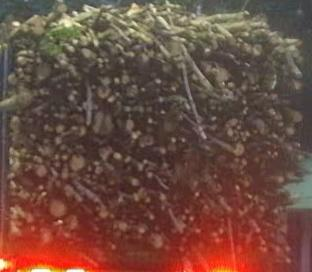medium: (48, 200, 63, 216), (216, 69, 230, 82), (69, 158, 83, 170), (153, 236, 163, 249), (97, 87, 107, 98), (33, 24, 43, 35), (233, 144, 242, 156), (63, 185, 72, 196), (124, 119, 133, 130), (37, 166, 45, 177), (7, 73, 15, 84), (98, 211, 109, 218), (82, 48, 90, 57), (143, 136, 151, 145), (293, 113, 301, 121), (119, 221, 125, 231), (123, 75, 129, 84), (54, 136, 60, 145), (285, 129, 292, 136)
small: (79, 127, 84, 136), (131, 179, 138, 185), (112, 153, 119, 159), (278, 177, 284, 184), (131, 132, 137, 139), (298, 155, 305, 161), (229, 119, 236, 125), (147, 173, 153, 179), (235, 186, 241, 192), (68, 95, 74, 101), (37, 158, 42, 164), (113, 78, 118, 84), (241, 159, 246, 165), (158, 195, 164, 200), (204, 48, 209, 54), (148, 51, 152, 58), (171, 138, 176, 143), (31, 135, 36, 140), (124, 106, 129, 111), (54, 113, 59, 118), (260, 207, 265, 212), (189, 217, 194, 222), (275, 115, 280, 120), (241, 85, 246, 90), (67, 47, 72, 52), (122, 69, 126, 75), (233, 158, 239, 162), (146, 198, 150, 204), (228, 129, 231, 136), (16, 68, 21, 72), (37, 58, 41, 63), (78, 107, 82, 112), (43, 125, 47, 130), (110, 215, 115, 219), (139, 228, 143, 233), (44, 115, 49, 119), (159, 97, 163, 102), (154, 79, 159, 83), (109, 182, 114, 186), (143, 160, 147, 165), (137, 131, 141, 136), (160, 148, 164, 153), (285, 246, 289, 251), (286, 258, 290, 263), (58, 114, 62, 119), (93, 42, 97, 47), (71, 40, 76, 44), (55, 155, 58, 161), (240, 132, 244, 136), (267, 151, 271, 155), (212, 174, 216, 178), (51, 106, 55, 110), (56, 84, 60, 88), (22, 45, 26, 49), (151, 235, 155, 239), (141, 88, 145, 92), (98, 59, 102, 63), (53, 64, 57, 68), (273, 146, 277, 150), (253, 158, 257, 162), (217, 107, 221, 111), (66, 150, 70, 154), (77, 198, 81, 202), (122, 216, 126, 220), (181, 216, 185, 220), (269, 109, 273, 113), (288, 147, 292, 151), (66, 83, 70, 87), (26, 155, 30, 159), (182, 139, 185, 144), (210, 118, 215, 121), (245, 131, 248, 136), (87, 166, 90, 171), (147, 119, 150, 124), (99, 71, 104, 74), (245, 33, 248, 38), (242, 72, 245, 77), (185, 210, 188, 215), (272, 135, 277, 138), (71, 91, 76, 94), (62, 156, 66, 159), (237, 126, 240, 130), (253, 131, 257, 134), (194, 193, 198, 196), (94, 162, 98, 165), (60, 107, 64, 110), (29, 59, 33, 62), (27, 165, 31, 168), (41, 192, 45, 195), (55, 163, 59, 166), (160, 110, 164, 113), (103, 59, 107, 62), (98, 64, 101, 68), (140, 107, 142, 113), (146, 108, 150, 111), (115, 93, 118, 97), (267, 142, 270, 146), (241, 101, 245, 104), (92, 176, 96, 179), (171, 88, 175, 91), (255, 229, 259, 232), (278, 123, 282, 126), (297, 144, 300, 148), (57, 220, 61, 223), (242, 138, 245, 141), (242, 111, 245, 114), (24, 169, 27, 172), (128, 115, 131, 118), (86, 175, 89, 178), (149, 216, 152, 219), (274, 152, 276, 156), (39, 186, 41, 189), (210, 107, 213, 109)
